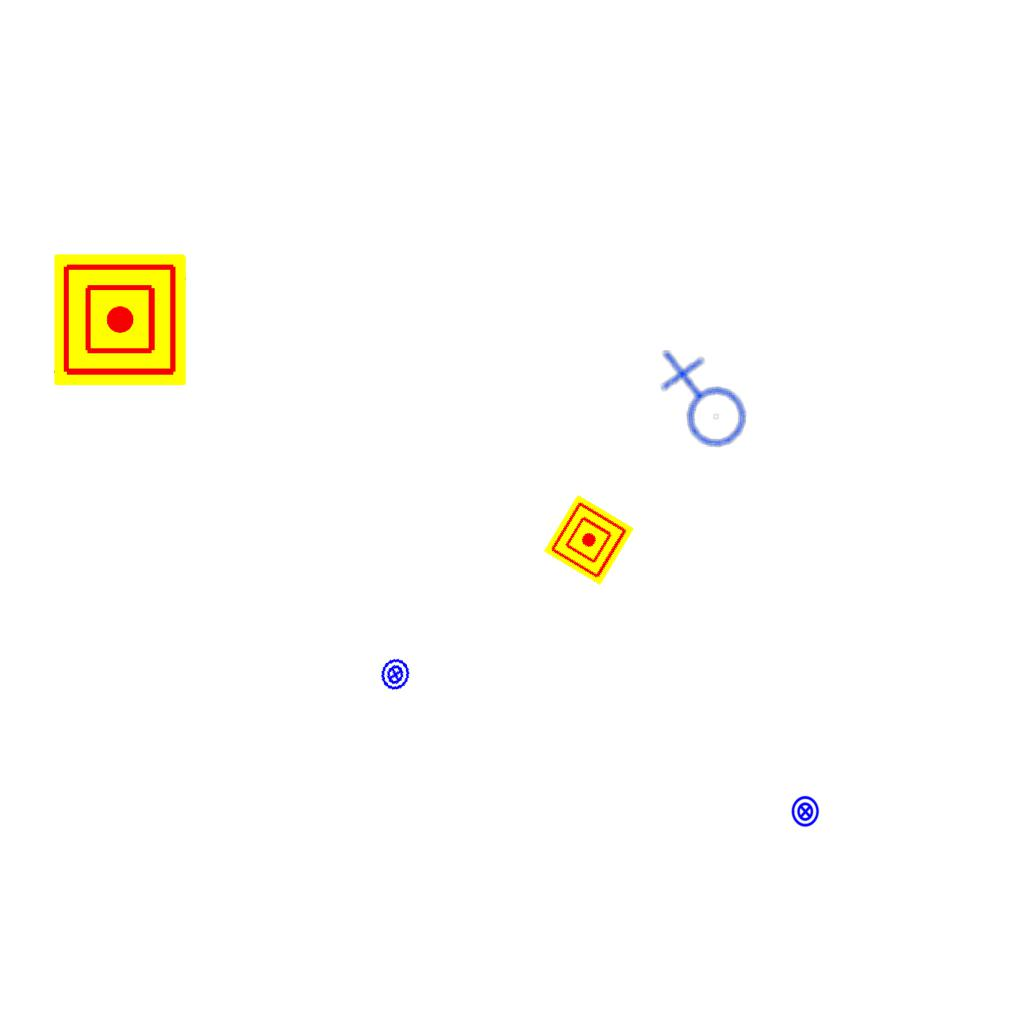Elektroanschluss_allgemein_230V_Geraeteanschlussdose_230V: (648, 348, 753, 458)
NAM-Nichtautomatischer_Melder: (54, 254, 186, 386), (543, 494, 635, 586)
Taster_beleuchtet: (375, 654, 416, 695), (789, 795, 822, 828)
